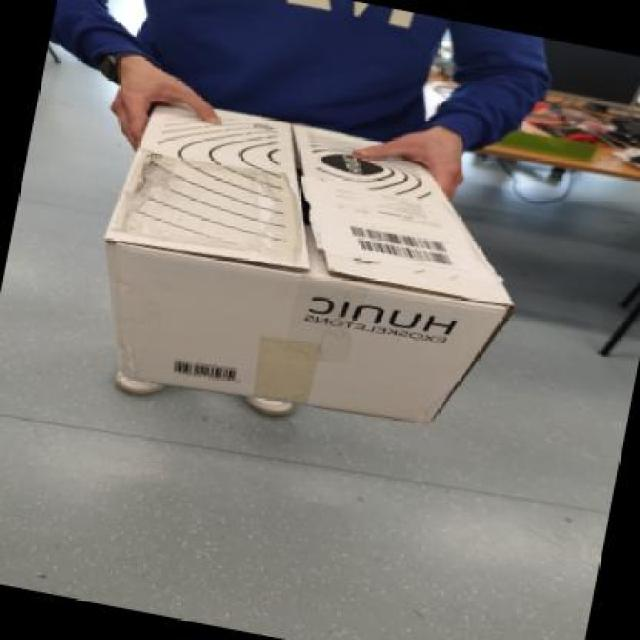box: (61, 71, 536, 477)
